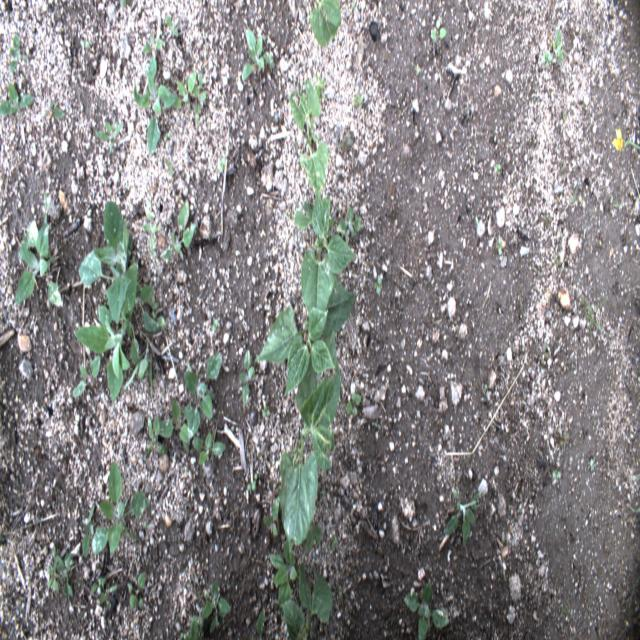crop: (278, 346, 346, 543), (290, 173, 364, 344), (255, 296, 339, 414), (310, 0, 344, 52)
weed: (73, 194, 162, 401), (140, 346, 218, 469), (267, 543, 337, 635), (286, 72, 333, 205), (12, 210, 70, 313), (97, 450, 149, 559), (131, 48, 180, 156), (161, 190, 200, 278), (401, 578, 454, 636), (237, 24, 283, 79), (442, 487, 480, 548), (86, 566, 123, 622), (170, 64, 208, 117), (47, 548, 75, 603), (73, 343, 101, 397), (237, 346, 260, 407), (201, 581, 232, 623), (80, 498, 98, 560), (125, 564, 149, 608), (5, 81, 36, 115), (6, 25, 28, 67), (430, 18, 449, 42)
